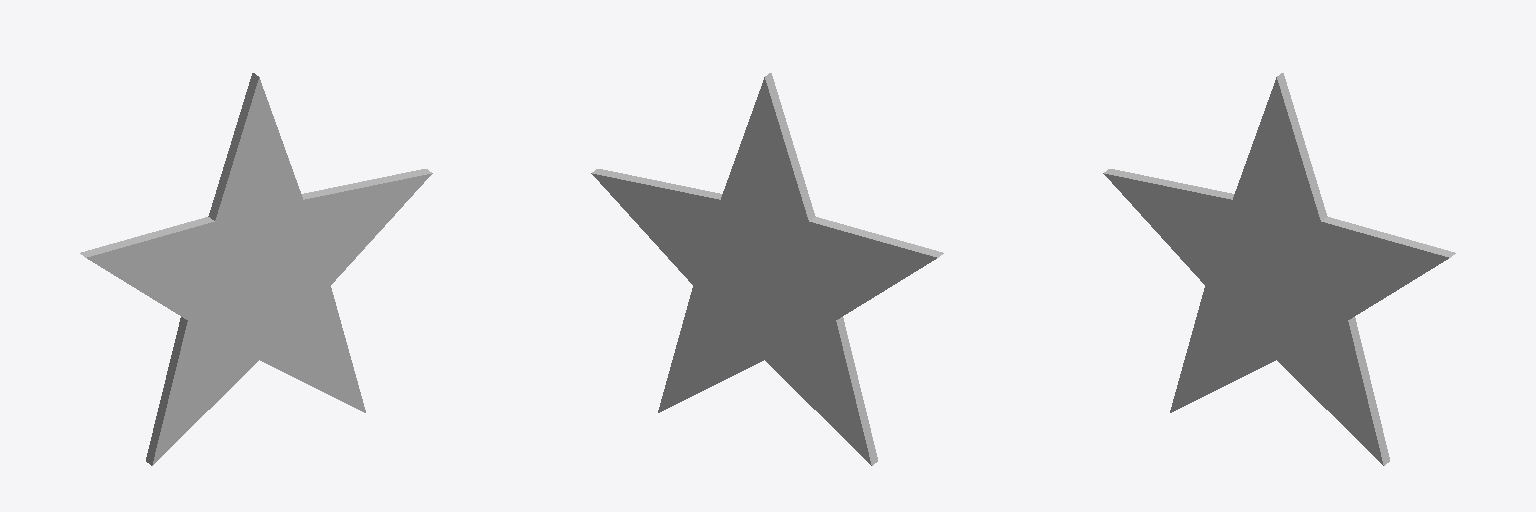
The model's file is star.obj.
3 views of the same model, side by side, from view 1: azimuth 30°, elevation 25°; view 2: azimuth 150°, elevation 25°; view 3: azimuth 330°, elevation 25° (orthographic).
Bounding box in the file's own units: 300 × 300 × 10.